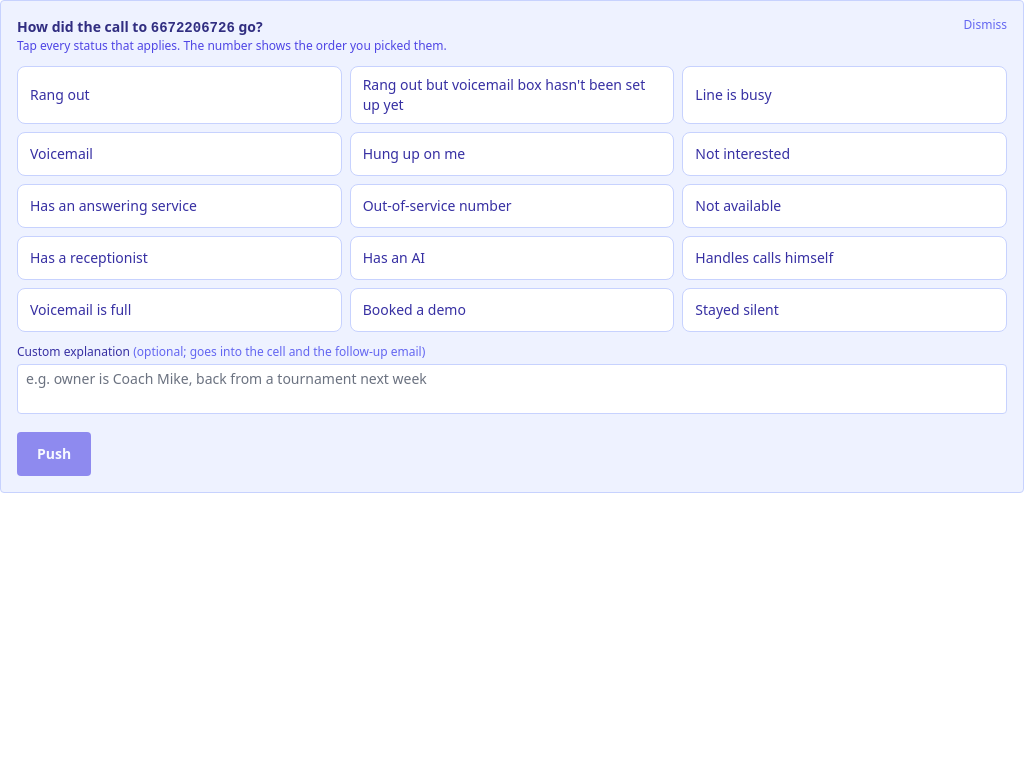
Test: post-call status panel › says a row has no profile yet instead of leaving the cell bare
Click the button "Voicemail": {"x": 62, "y": 154} 17,132 -> 342,176
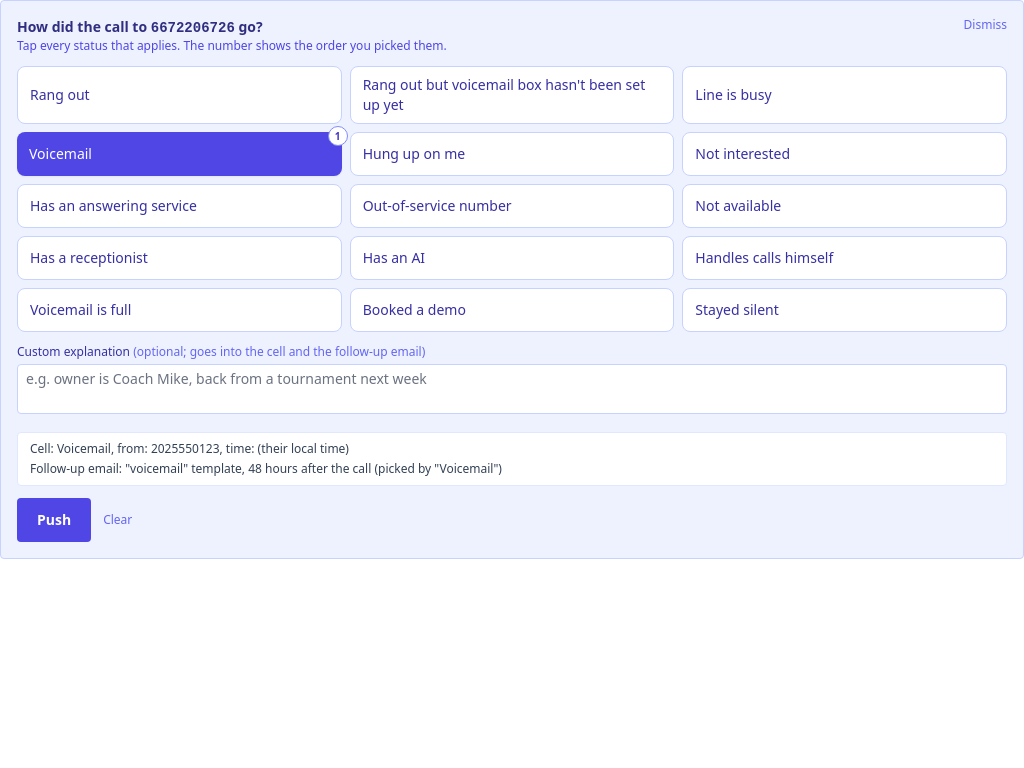
Click the button "Push": {"x": 54, "y": 520} 17,498 -> 91,542
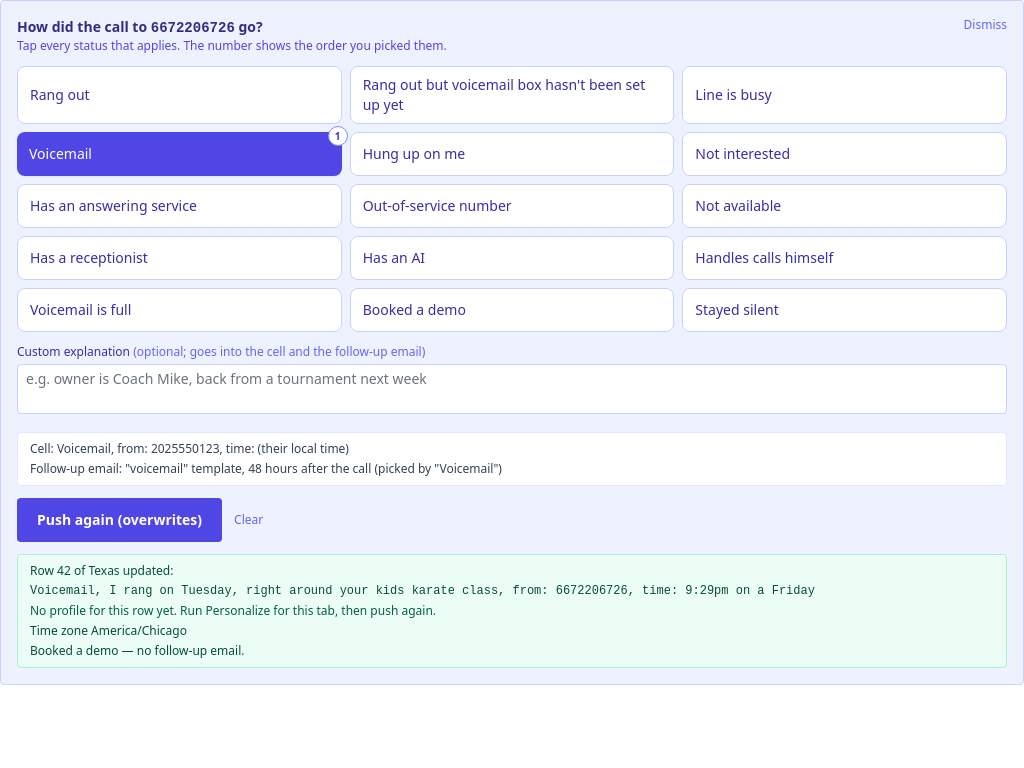
Expected: the text "Run Personalize for this tab" is shown, 30,602 -> 436,619
